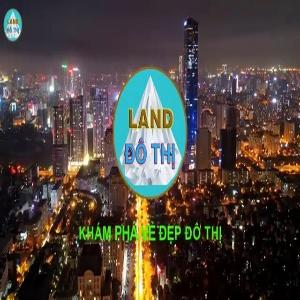drone: (4, 178, 50, 224)
